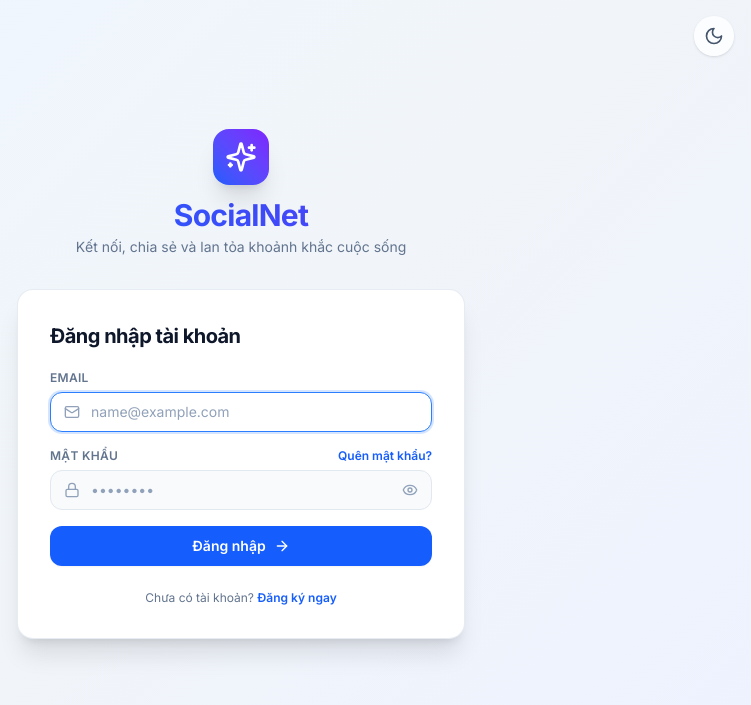
Test: Đăng nhập › gõ lại thì lỗi biến mất
In the field labelled "Email": (241, 412) x1=50 y1=392 x2=432 y2=432, type "u1@test.vn"
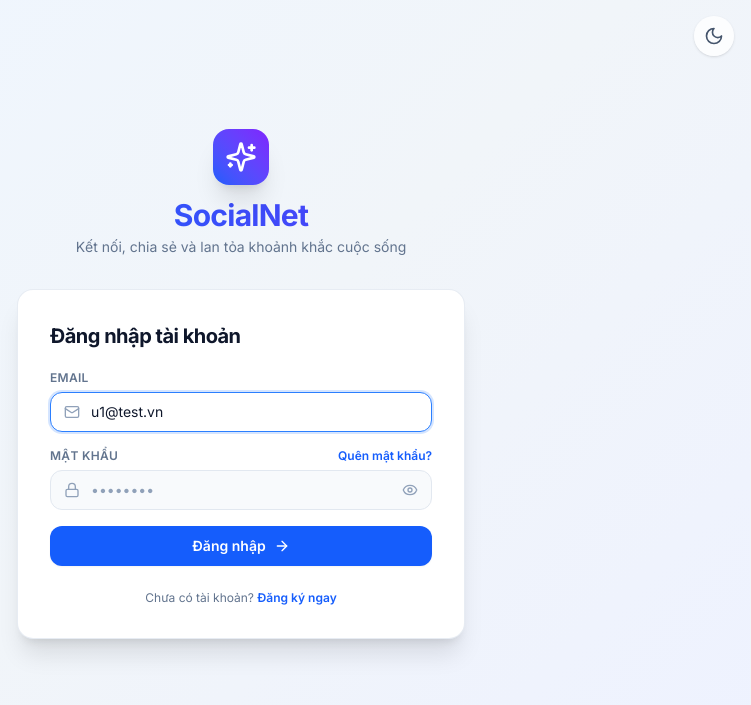
In the password field labelled "Mật khẩu": (241, 490) x1=50 y1=470 x2=432 y2=510, type "x"
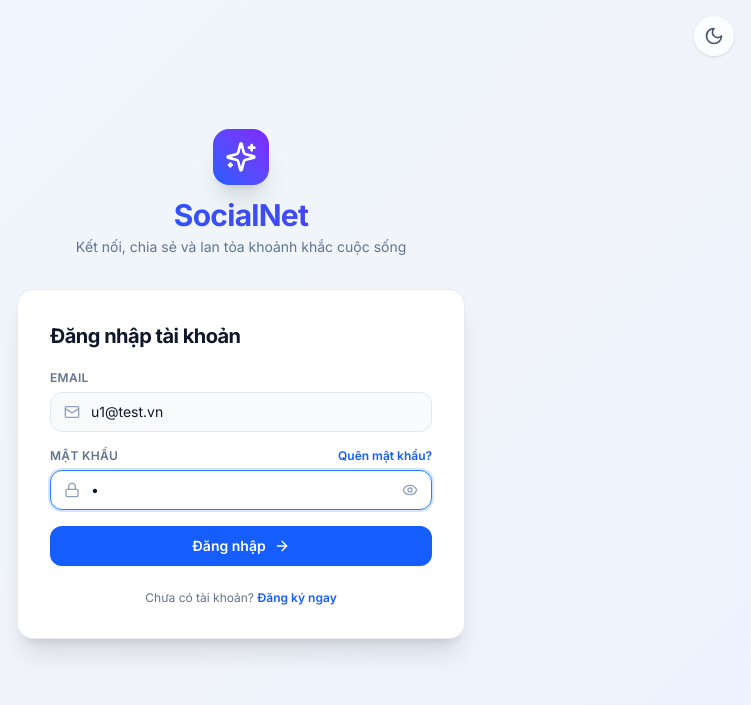
Click the button "Đăng nhập": (241, 546) x1=50 y1=526 x2=432 y2=566
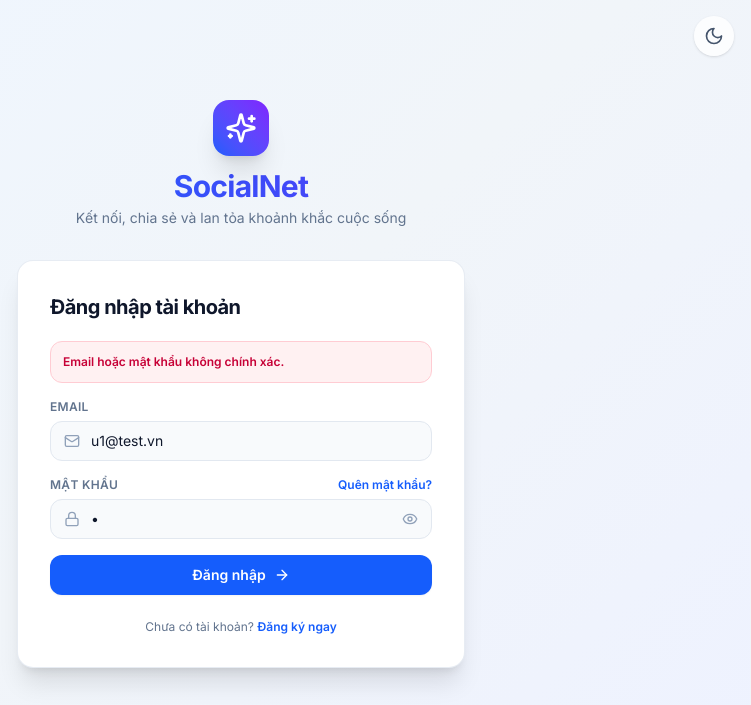
Now the message "Email hoặc mật khẩu không chính xác." is shown, box x1=50 y1=341 x2=432 y2=383
In the password field labelled "Mật khẩu": (241, 519) x1=50 y1=499 x2=432 y2=539, type "y"
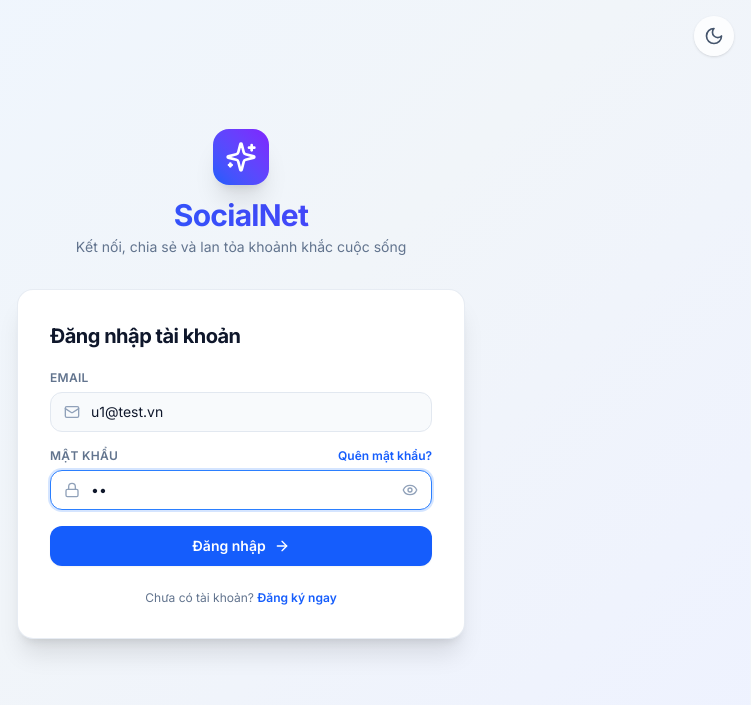
Now the message "Email hoặc mật khẩu không chính xác." is gone
